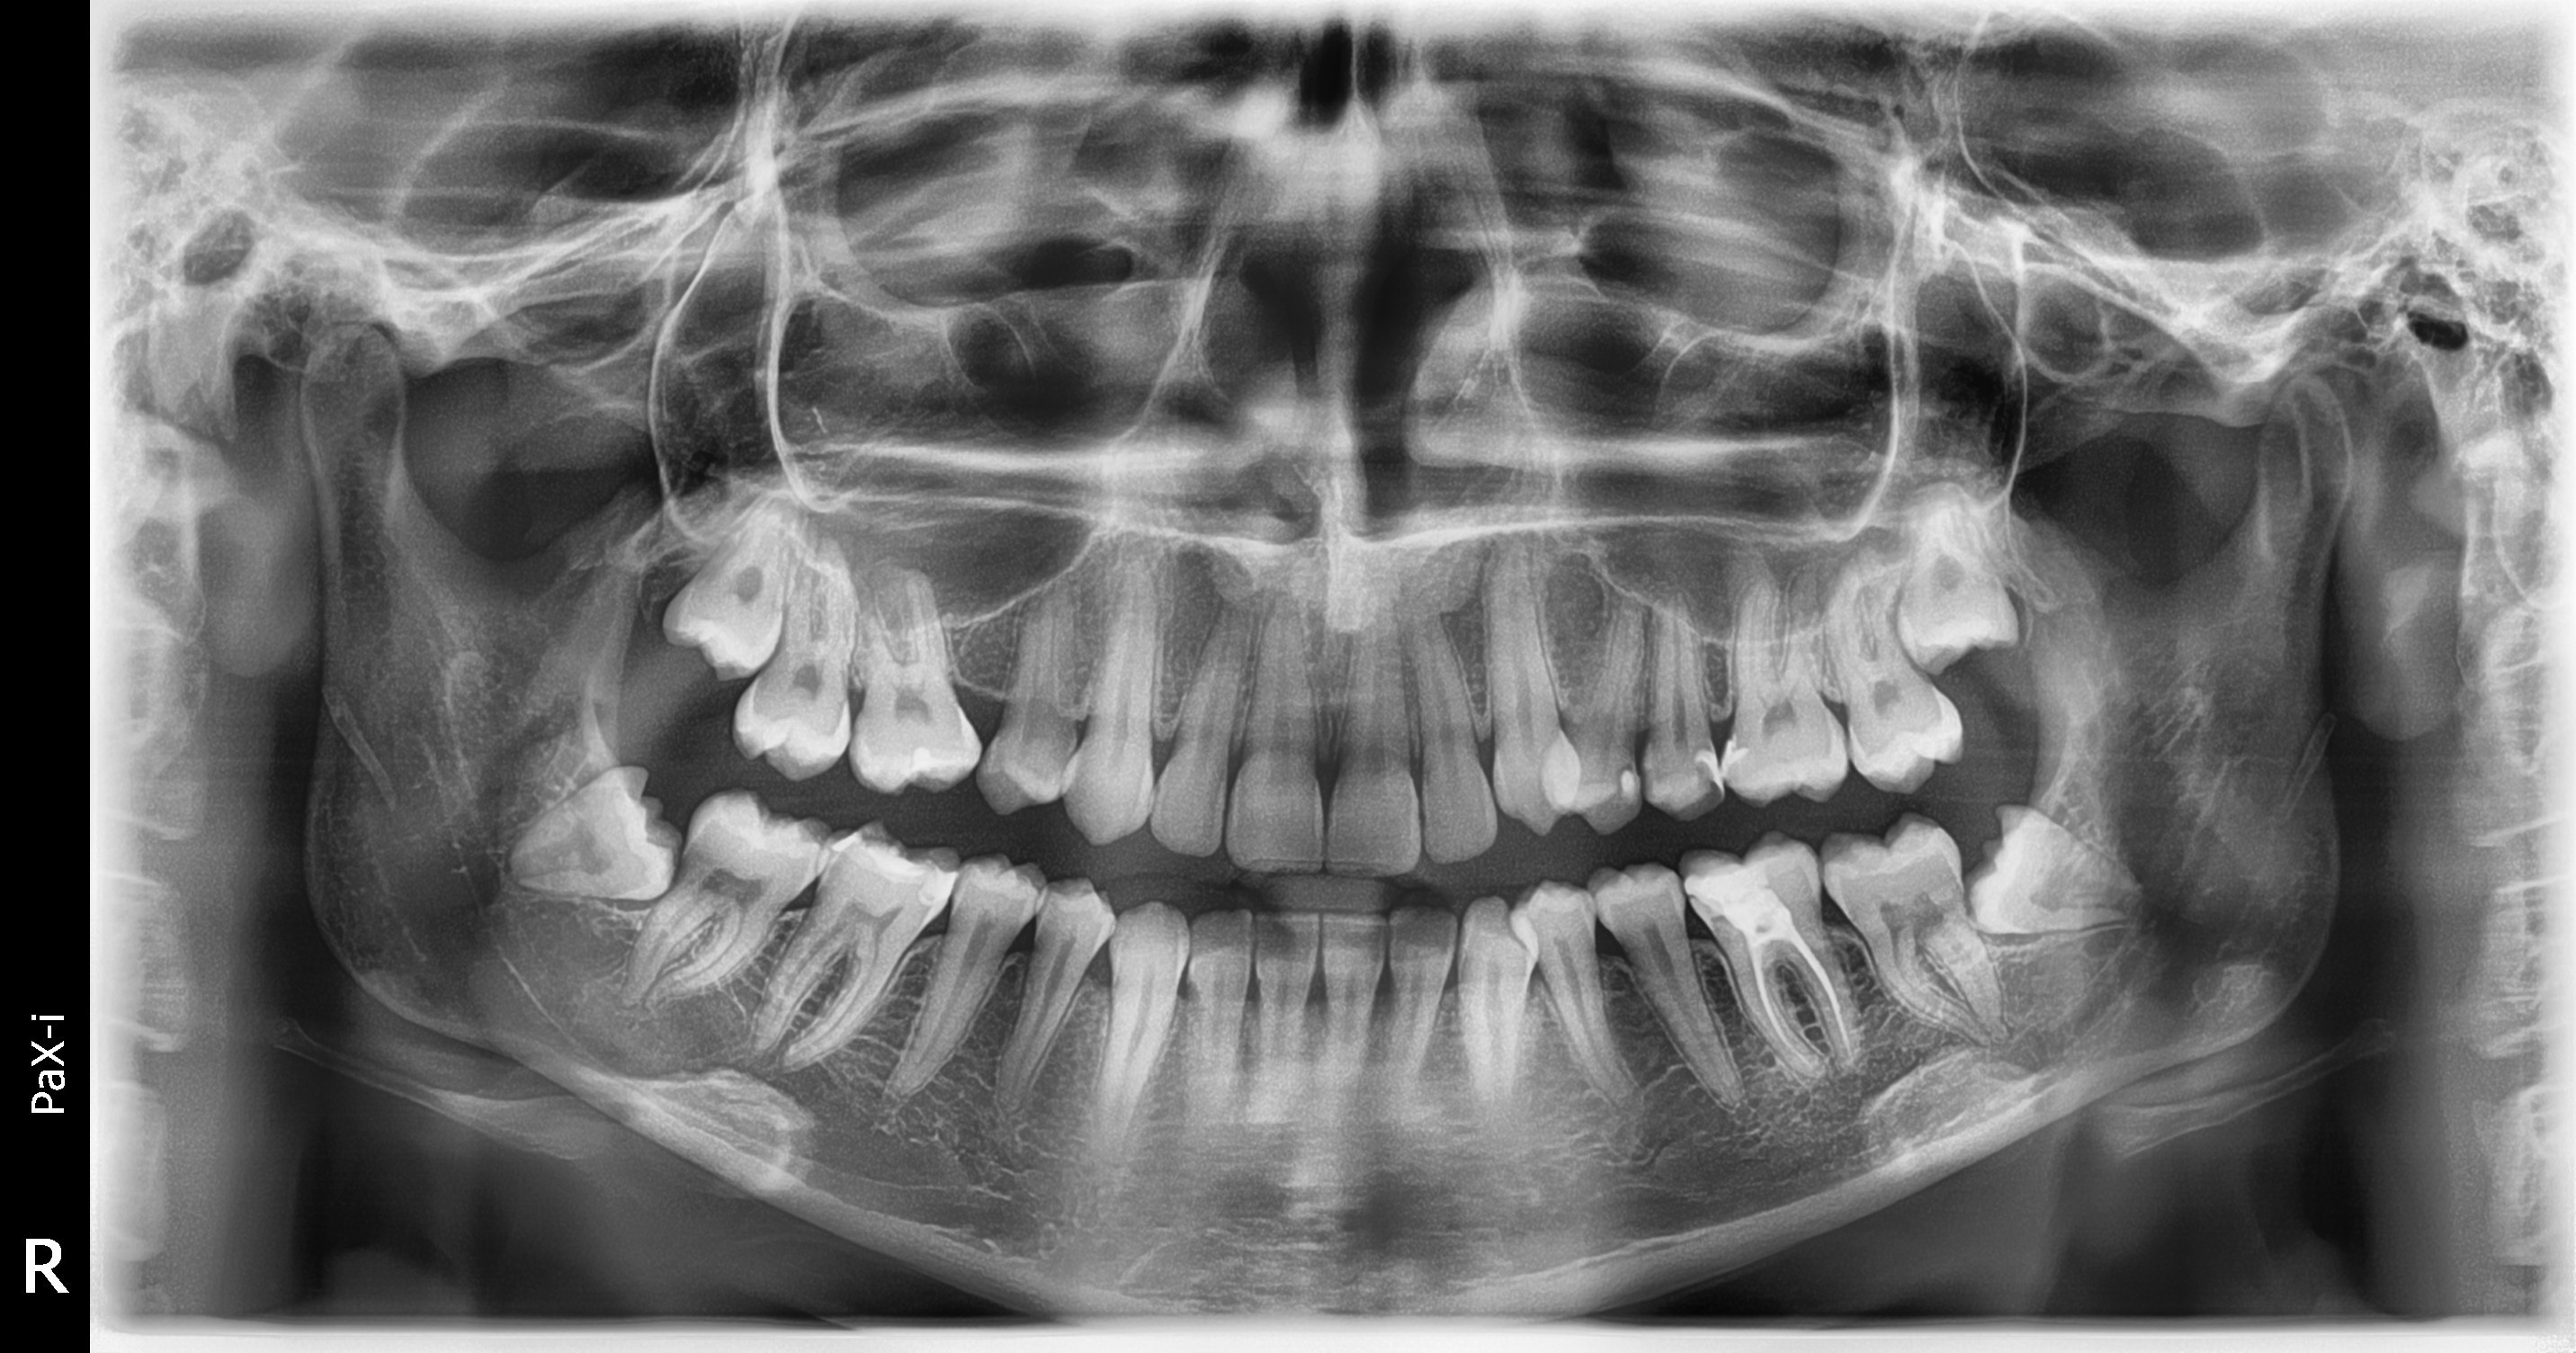CAR: (1613, 762, 1632, 796)
END: (1748, 922, 1852, 1068)
IMT: (508, 765, 681, 900)
OBT: (1683, 859, 1792, 944)
